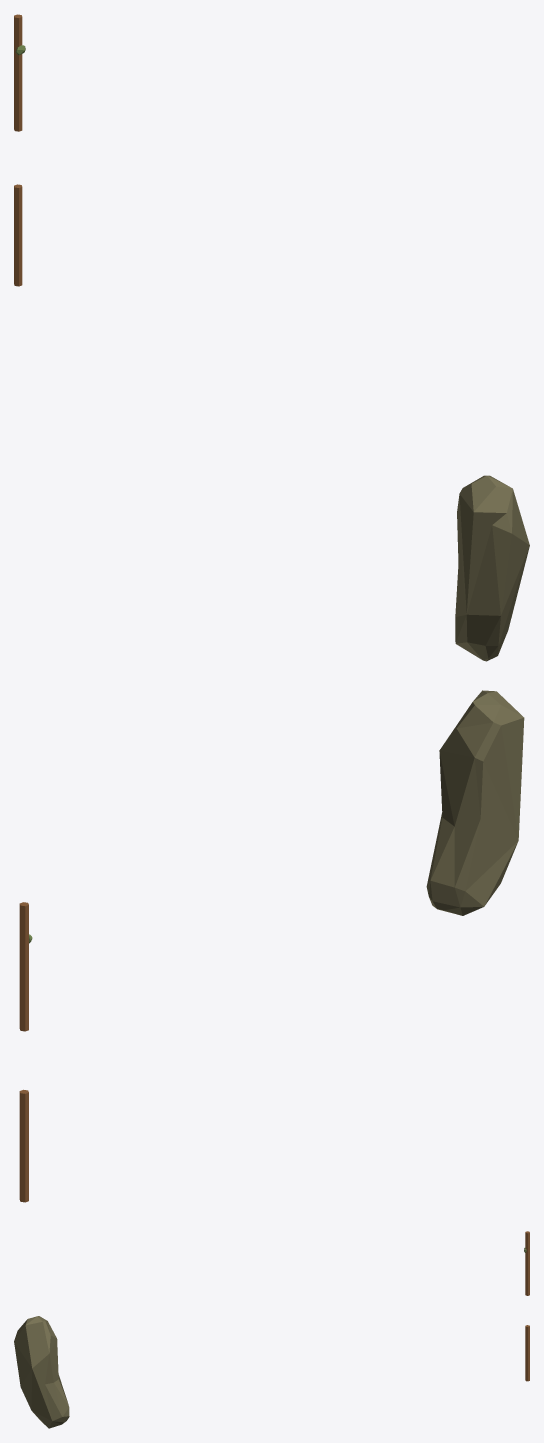
3 views of the same model, one above another, from view 1: azimuth 30°, elevation 25°; view 2: azimuth 150°, elevation 25°; view 3: azimuth 270°, elevation 25° (orthographic). The views are drawn at different scales.
Visible parts, largest first — view 1: Box15532_rock2_0, Cylinder1499_brown_0, Cylinder1489_brown_0; view 2: Box15532_rock2_0, Cylinder1499_brown_0, Cylinder1489_brown_0; view 3: Box15532_rock2_0, Cylinder1499_brown_0, Cylinder1489_brown_0.
Boxes of the visible parts, x1,y1,x2,y2 form: Box15532_rock2_0: (455, 475, 529, 661); Cylinder1499_brown_0: (14, 14, 22, 131); Cylinder1489_brown_0: (14, 184, 22, 286); Box15532_rock2_0: (426, 690, 524, 915); Cylinder1499_brown_0: (19, 902, 28, 1031); Cylinder1489_brown_0: (19, 1089, 28, 1202); Box15532_rock2_0: (14, 1316, 69, 1428); Cylinder1499_brown_0: (525, 1231, 529, 1295); Cylinder1489_brown_0: (525, 1325, 529, 1381).
Size of the model in its own units: 501 by 2374 by 6011.
